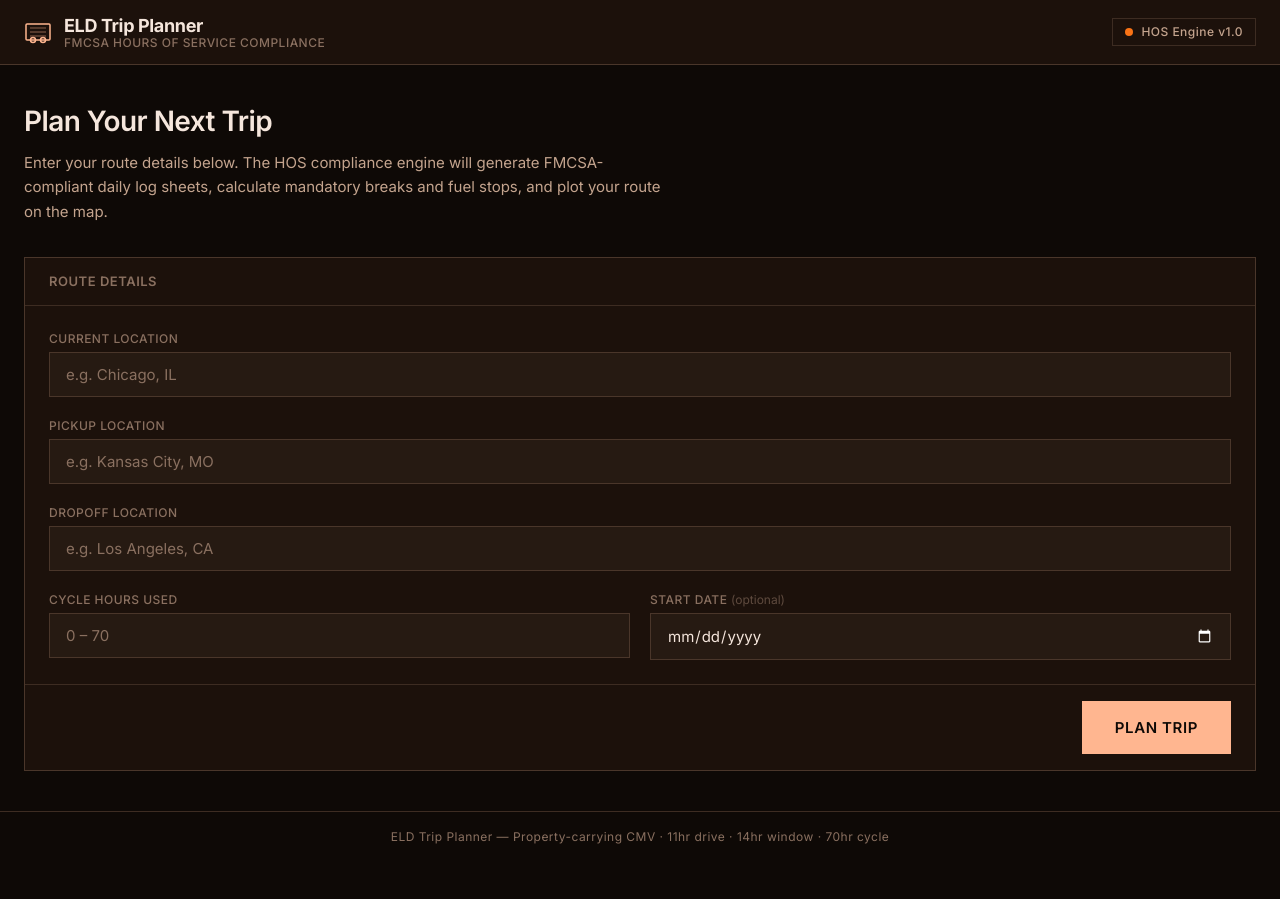
Scenario: App › shows an error banner when planTrip rejects with a server error
In the field labelled "Current Location": (640, 375) [49,352,1231,397], type "Chicago, IL"
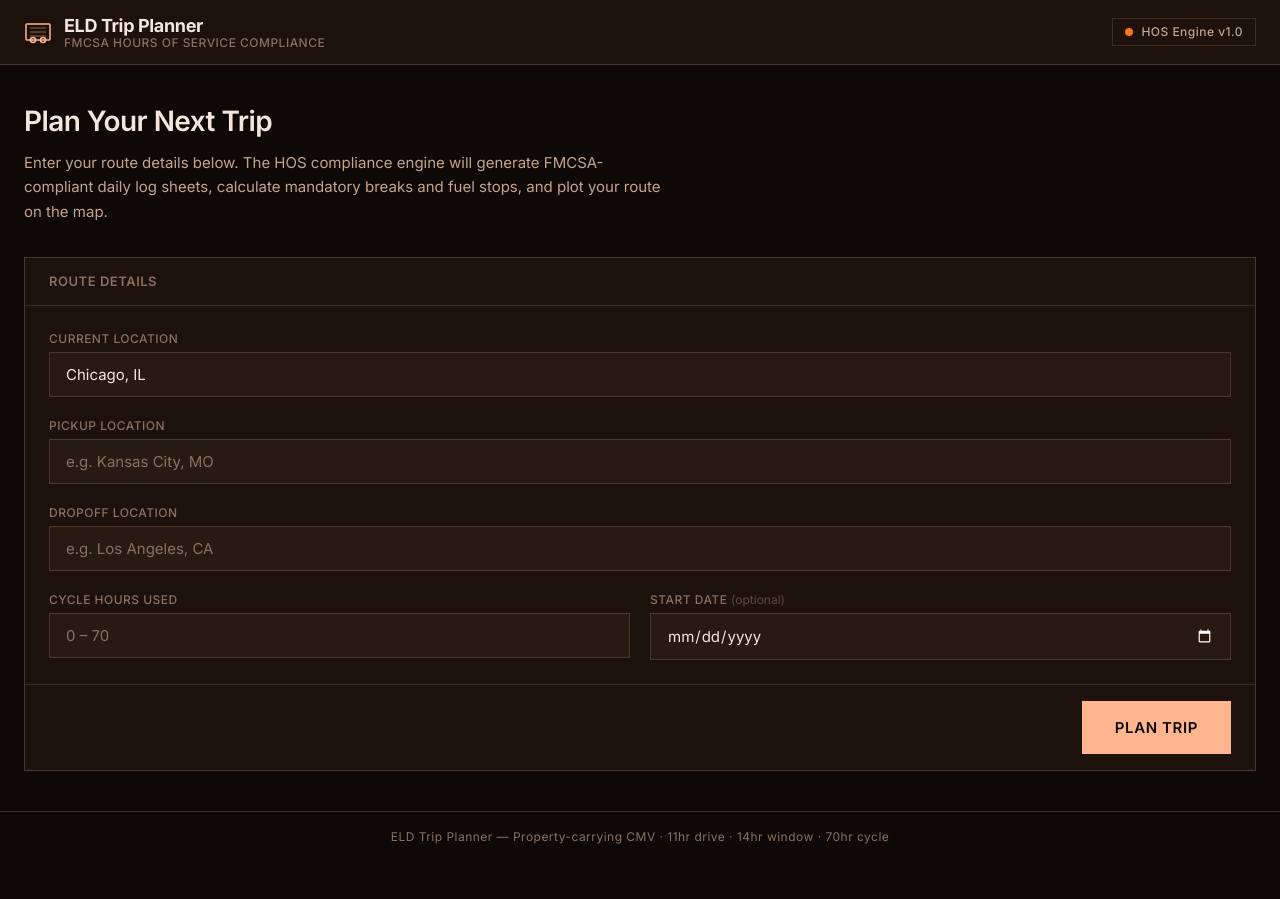
In the field labelled "Pickup Location": (640, 462) [49,439,1231,484], type "Kansas City, MO"
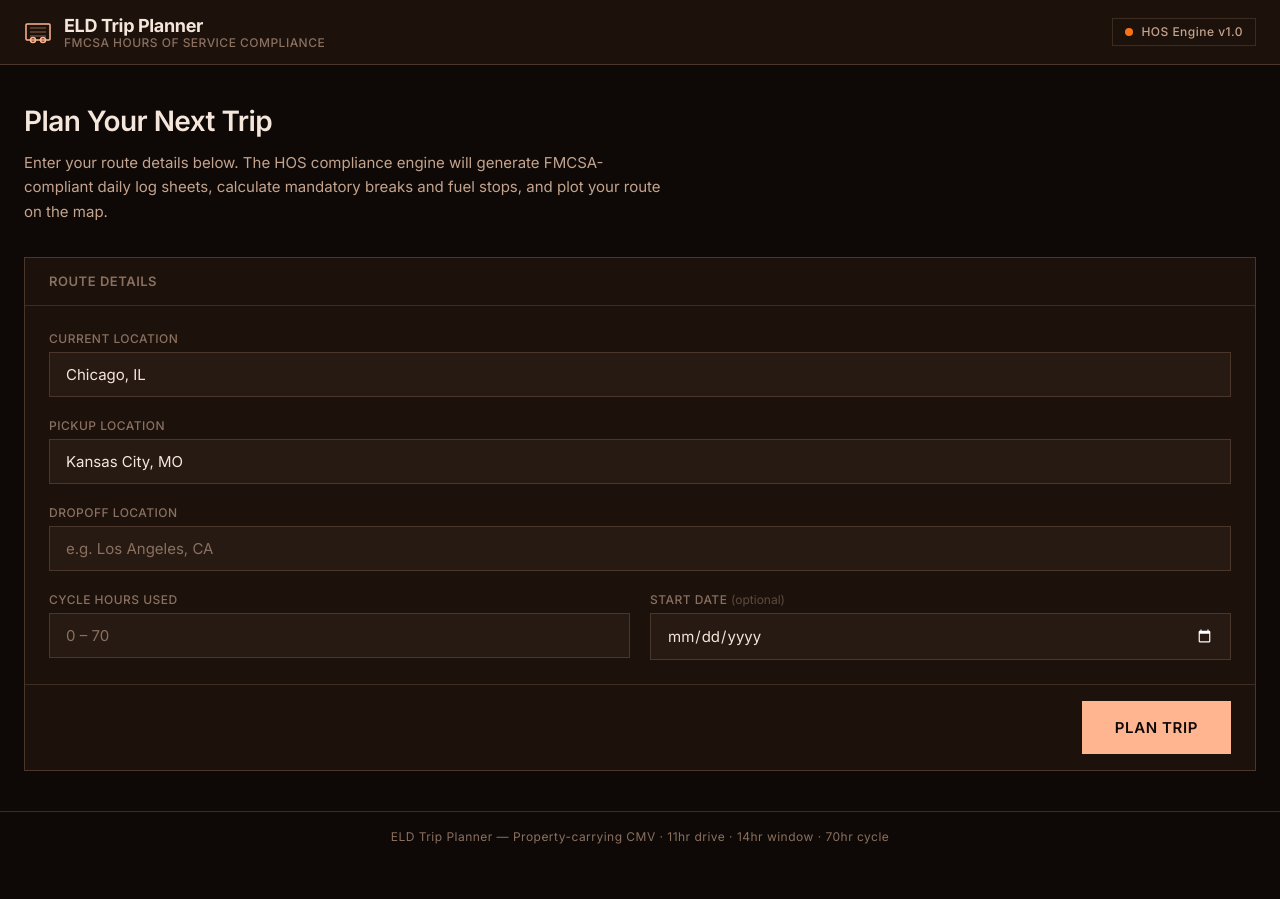
In the field labelled "Dropoff Location": (640, 549) [49,526,1231,571], type "Los Angeles, CA"
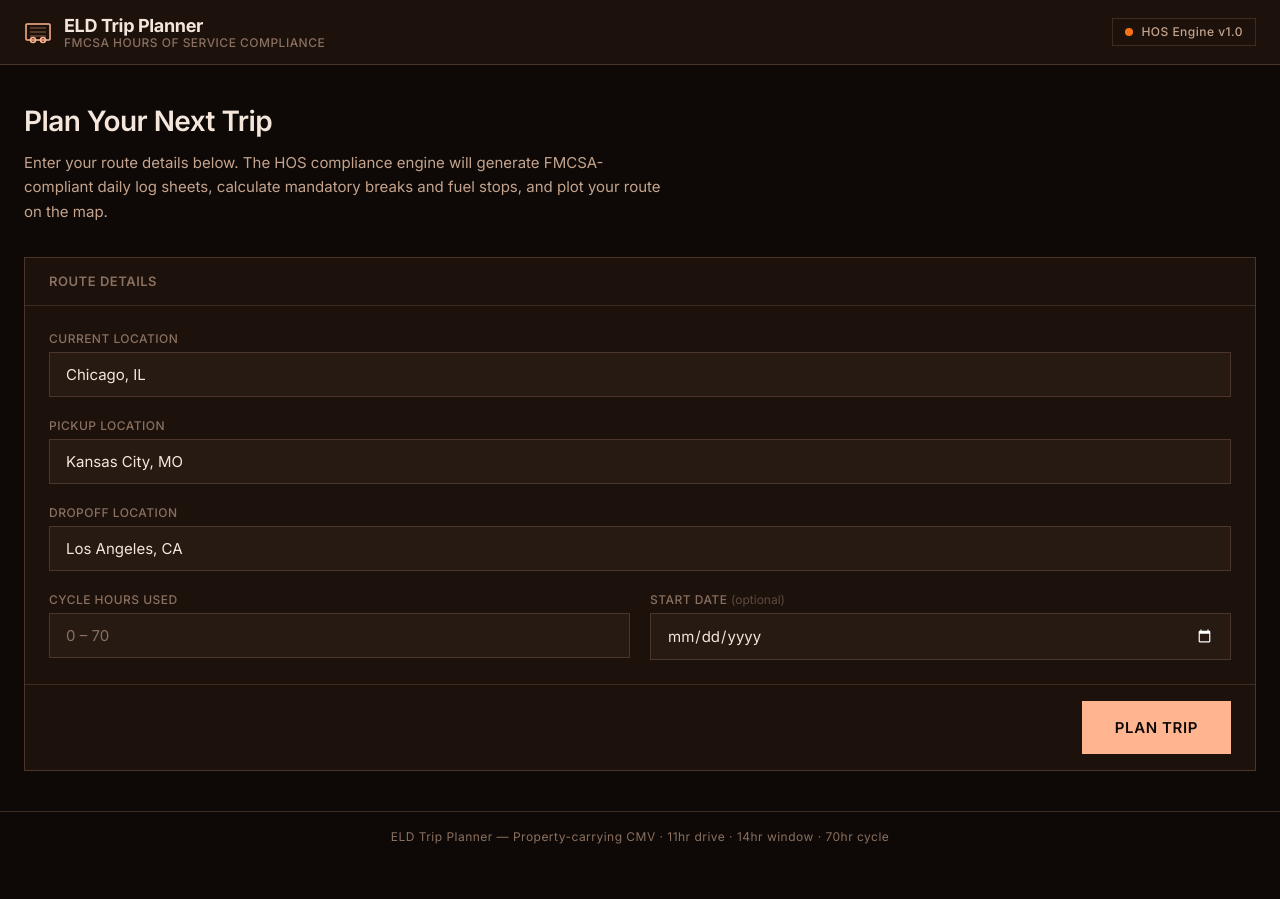
In the number field labelled "Cycle Hours Used": (340, 636) [49,613,630,658], type "20"
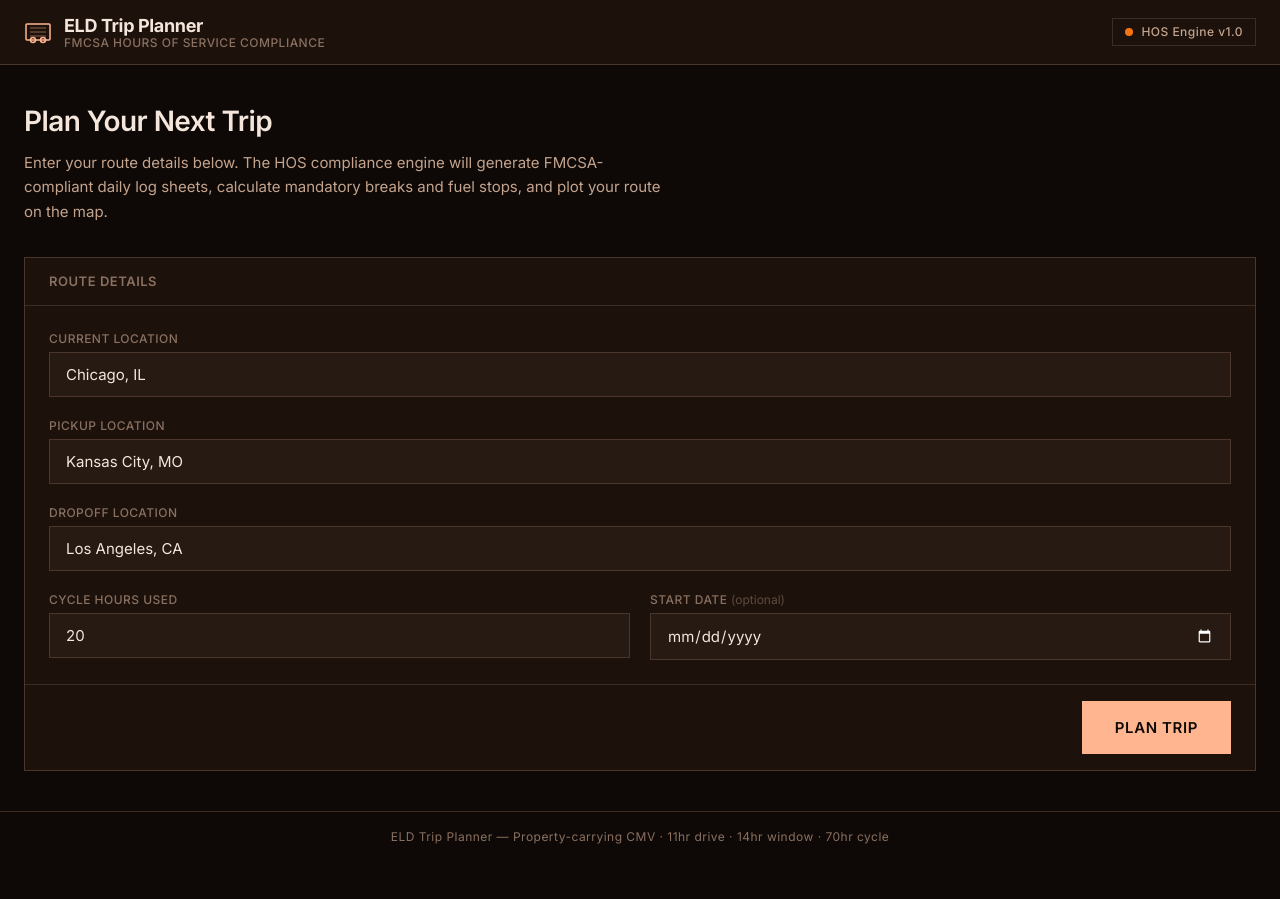
Click the button "Plan Trip": (1156, 728) [1082,701,1231,754]
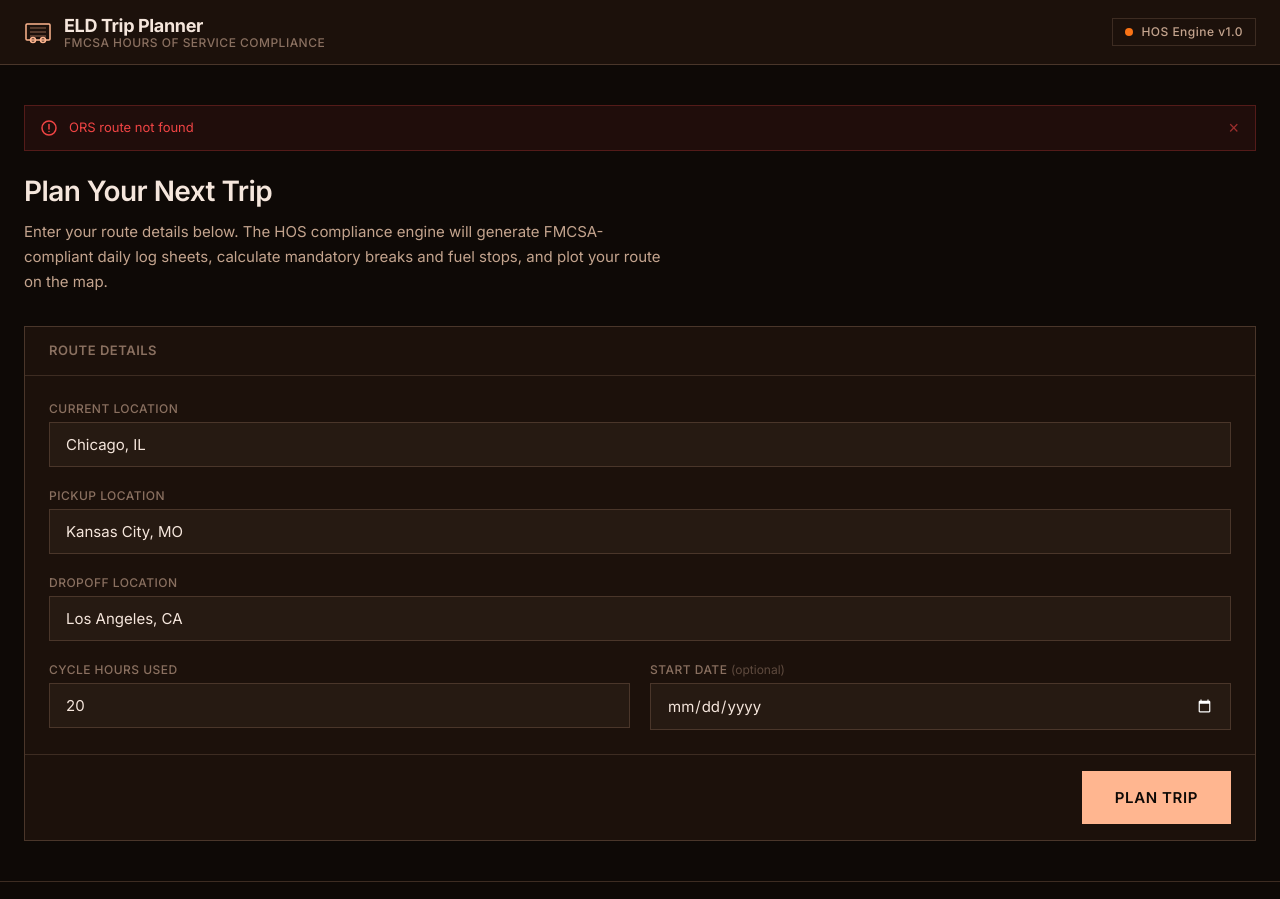
Now the text "ORS route not found" is shown, box [69,118,194,138]
